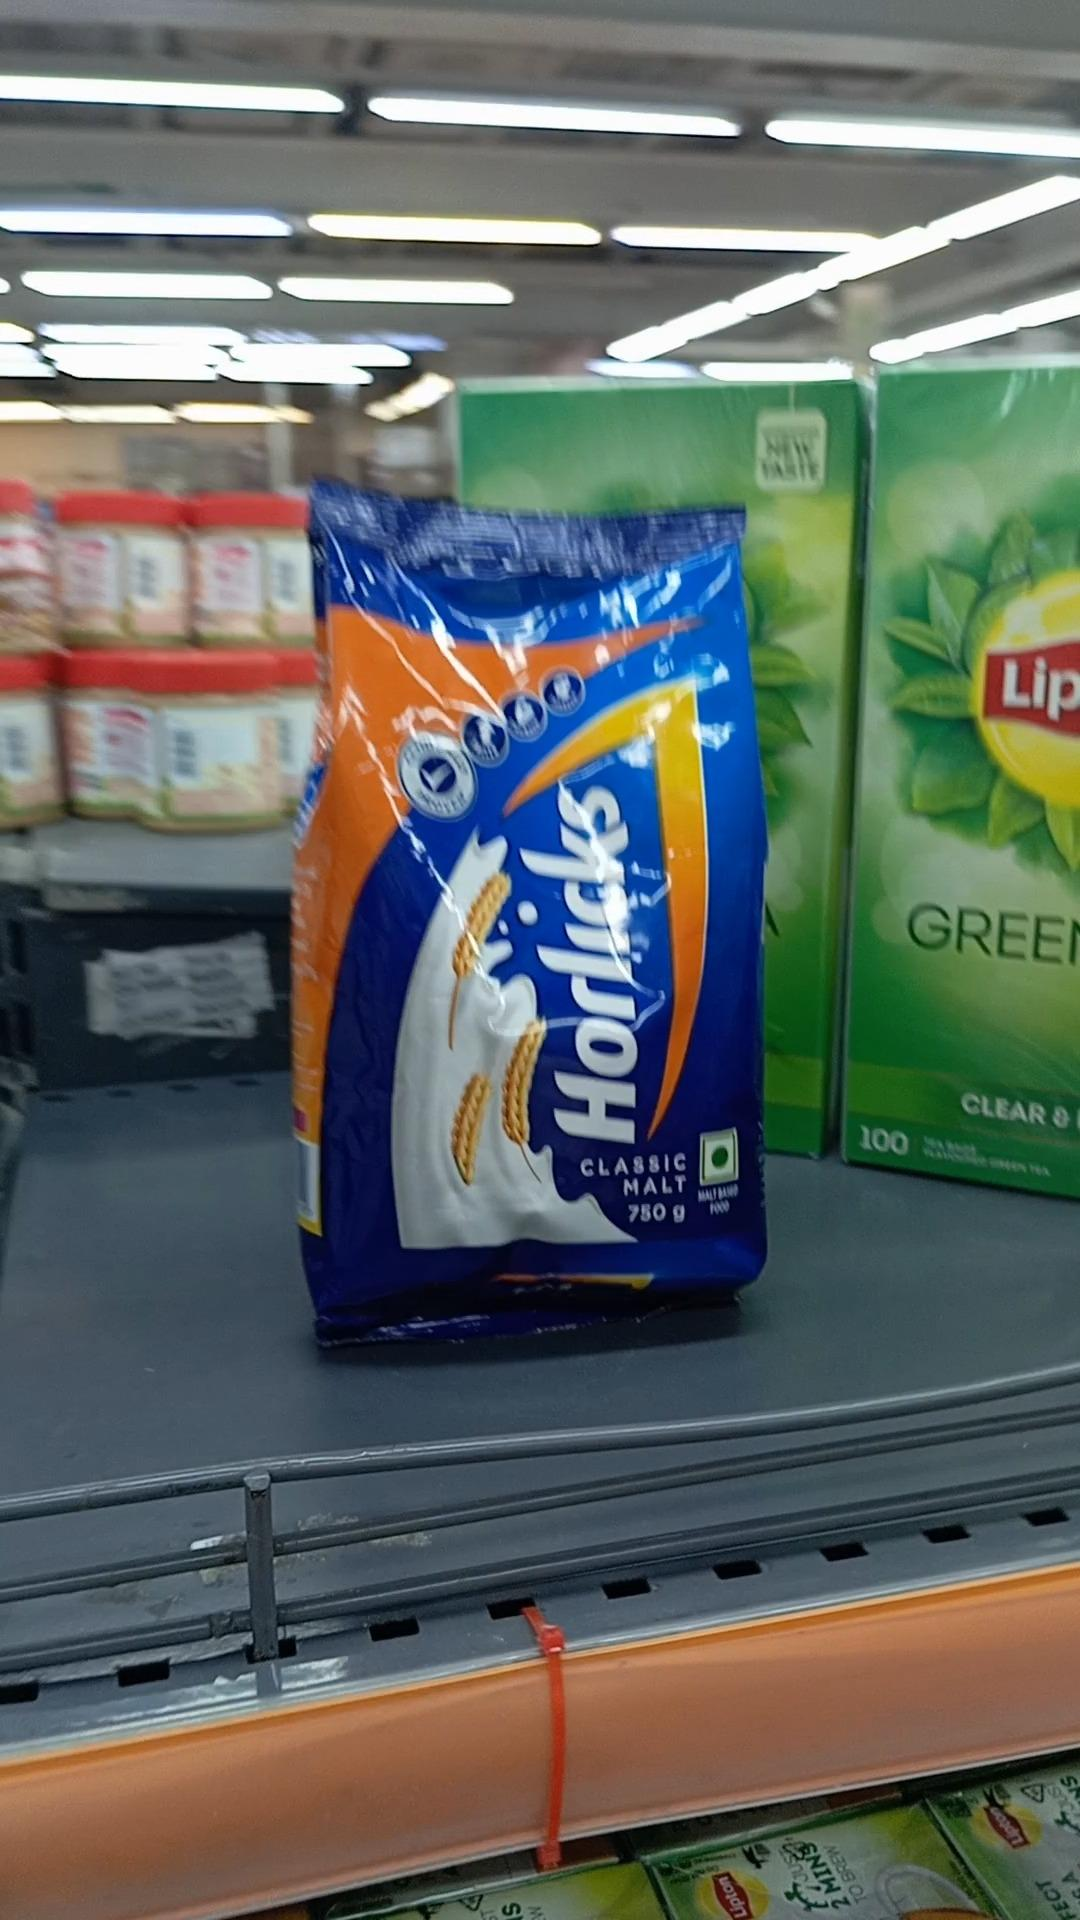HORLICK_CLASSIC_MALT_750_G_POUCH: (306, 472, 758, 1302)
